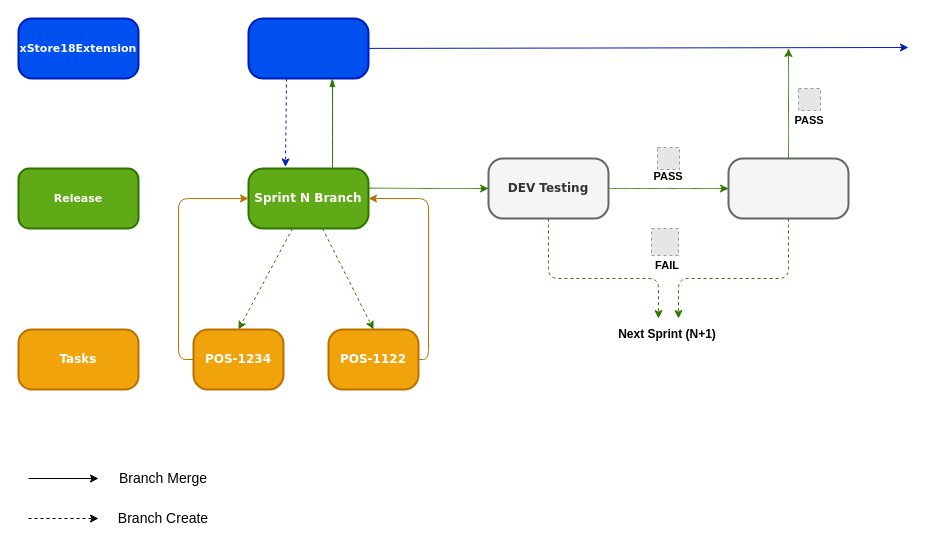
Image size: 934x545. Some labels were removed from this diagram. Grey dashed boxes stand in for pictures. The centre of each missing label's shape, as x and y in pixels:
Master Branch: point (308, 48)
QA Testing: point (788, 188)
